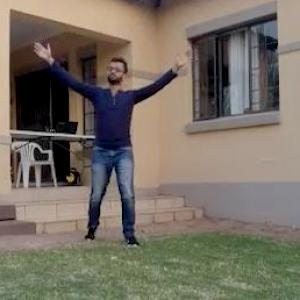takeoff: (44, 35, 214, 251)
